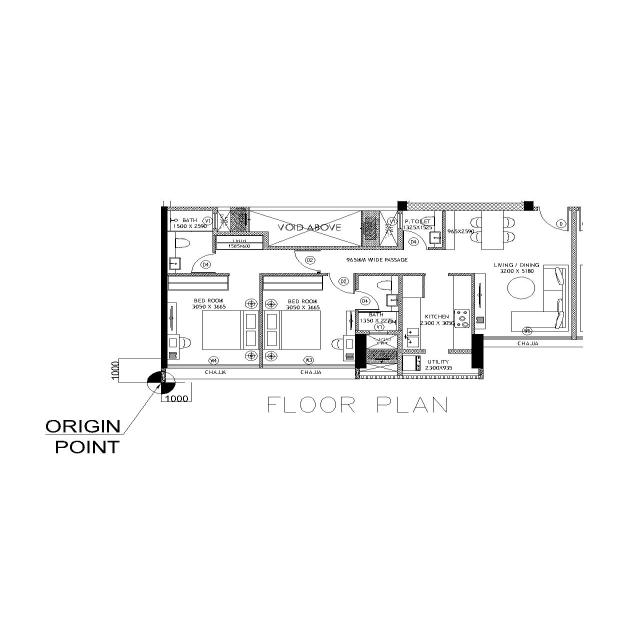Column: (160, 205, 170, 370), (469, 333, 486, 370), (354, 334, 368, 369), (522, 199, 534, 214), (396, 200, 408, 212)
Door: (536, 205, 572, 212), (401, 245, 432, 251), (354, 288, 360, 312), (327, 272, 355, 277), (211, 252, 217, 274), (317, 248, 321, 274)
Opening: (424, 272, 450, 278), (227, 272, 261, 276)
Ventilator: (396, 213, 404, 230), (368, 330, 390, 336), (212, 212, 218, 230)
Window: (482, 335, 572, 341), (262, 364, 356, 369), (166, 364, 260, 368)
